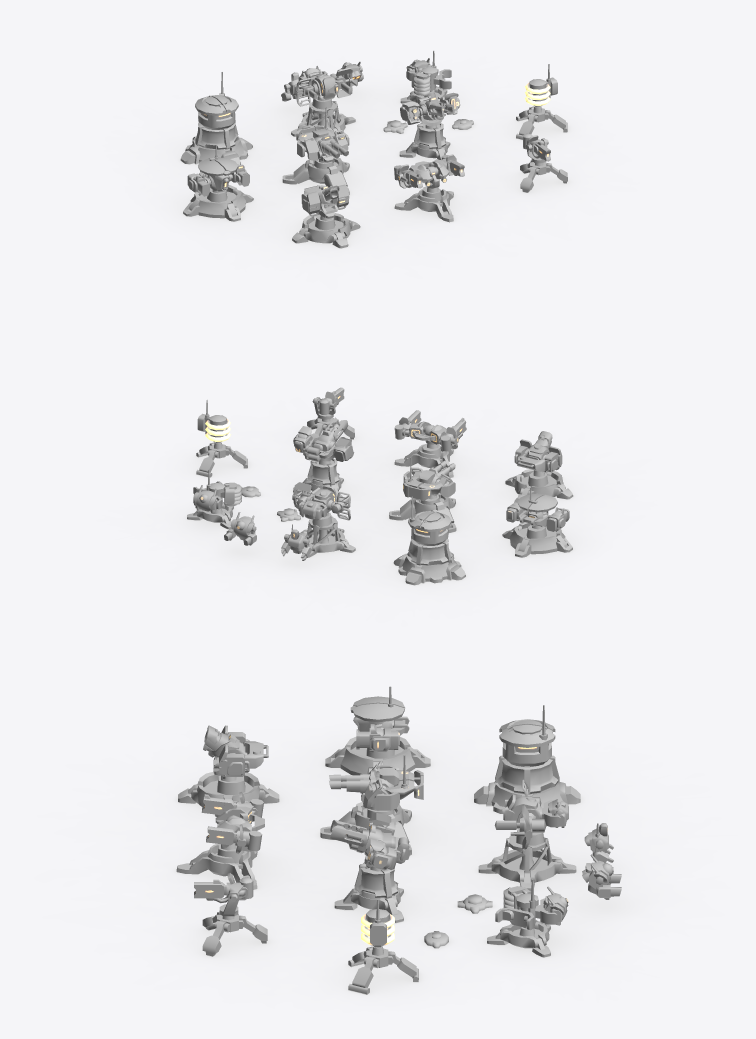
The picture shows the model from 3 angles, top to bottom: view 1: azimuth 30°, elevation 25°; view 2: azimuth 150°, elevation 25°; view 3: azimuth 270°, elevation 25°; orthographic projection. The views are drawn at different scales.
Visible parts, largest first — view 1: Base_Plane, Base_Tower_Lvl4_Geom, Tower_Lookout_lvl3_Geom, Base_Tower_Lvl3_Geom, Base_Turret_Lvl5_Geom, Base_Tower_Lvl5_Geom, Base_Turret_Lvl3_Geom, Tower_Walls_Geom, Base_Turret_Lt_Lvl2_Geom, Resonator_Lvl3_Geom, Base_Turret_Lt_Lvl1_Geom, Shoulders_Armor_Ammo_Lvl1_Geom (+11 smaller); view 2: Base_Plane, Base_Tower_Lvl4_Geom, Base_Tower_Lvl5_Geom, Tower_Lookout_lvl3_Geom, Base_Tower_Lvl3_Geom, Base_Turret_Lvl5_Geom, Tower_Walls_Geom, Base_Turret_Lt_Lvl2_Geom, Resonator_Lvl3_Geom, Base_Turret_Lvl3_Geom, Base_Tower_Lvl1_Geom, Drone_Fighter_Geom1 (+7 smaller); view 3: Base_Plane, Tower_Lookout_lvl3_Geom, Base_Tower_Lvl4_Geom, Base_Tower_Lvl1_Geom, Tower_Walls_Geom, Base_Tower_Lvl3_Geom, Base_Turret_Lvl3_Geom, Base_Turret_Lt_Lvl2_Geom, Base_Tower_Lvl5_Geom, Base_Turret_Lt_Lvl1_Geom, Cockpit_Weapon_Raygun_Lvl1_Geom, Base_Turret_Lvl1_Geom (+18 smaller).
Boxes of the visible parts, x1,y1,x2,y2 form: Base_Plane: [160, 81, 578, 255]; Base_Tower_Lvl4_Geom: [183, 185, 253, 221]; Tower_Lookout_lvl3_Geom: [195, 72, 238, 129]; Base_Tower_Lvl3_Geom: [292, 213, 360, 248]; Base_Turret_Lvl5_Geom: [282, 156, 349, 194]; Base_Tower_Lvl5_Geom: [180, 135, 252, 164]; Base_Turret_Lvl3_Geom: [394, 188, 453, 222]; Tower_Walls_Geom: [194, 120, 239, 149]; Base_Turret_Lt_Lvl2_Geom: [516, 106, 567, 139]; Resonator_Lvl3_Geom: [524, 64, 557, 107]; Base_Turret_Lt_Lvl1_Geom: [520, 160, 567, 192]; Shoulders_Armor_Ammo_Lvl1_Geom: [306, 184, 349, 218]; Base_Plane: [168, 423, 592, 593]; Base_Tower_Lvl4_Geom: [502, 522, 572, 557]; Base_Tower_Lvl5_Geom: [393, 551, 465, 585]; Tower_Lookout_lvl3_Geom: [408, 496, 451, 545]; Base_Tower_Lvl3_Geom: [505, 469, 573, 499]; Base_Turret_Lvl5_Geom: [389, 493, 456, 532]; Tower_Walls_Geom: [407, 536, 452, 565]; Base_Turret_Lt_Lvl2_Geom: [196, 442, 247, 477]; Resonator_Lvl3_Geom: [197, 399, 231, 443]; Base_Turret_Lvl3_Geom: [394, 443, 453, 477]; Base_Tower_Lvl1_Geom: [299, 528, 355, 557]; Drone_Fighter_Geom1: [224, 512, 256, 545]; Base_Plane: [156, 735, 654, 999]; Tower_Lookout_lvl3_Geom: [499, 705, 555, 766]; Base_Tower_Lvl4_Geom: [325, 737, 430, 775]; Base_Tower_Lvl1_Geom: [478, 849, 576, 891]; Tower_Walls_Geom: [495, 755, 559, 794]; Base_Tower_Lvl3_Geom: [178, 772, 279, 806]; Base_Turret_Lvl3_Geom: [176, 844, 257, 889]; Base_Turret_Lt_Lvl2_Geom: [348, 946, 418, 994]; Base_Tower_Lvl5_Geom: [474, 781, 580, 813]; Base_Turret_Lt_Lvl1_Geom: [202, 911, 267, 956]; Cockpit_Weapon_Raygun_Lvl1_Geom: [330, 820, 395, 856]; Base_Turret_Lvl1_Geom: [487, 920, 550, 957].
Bounding box in the file's own units: 7.05 × 1.11 × 7.05.
